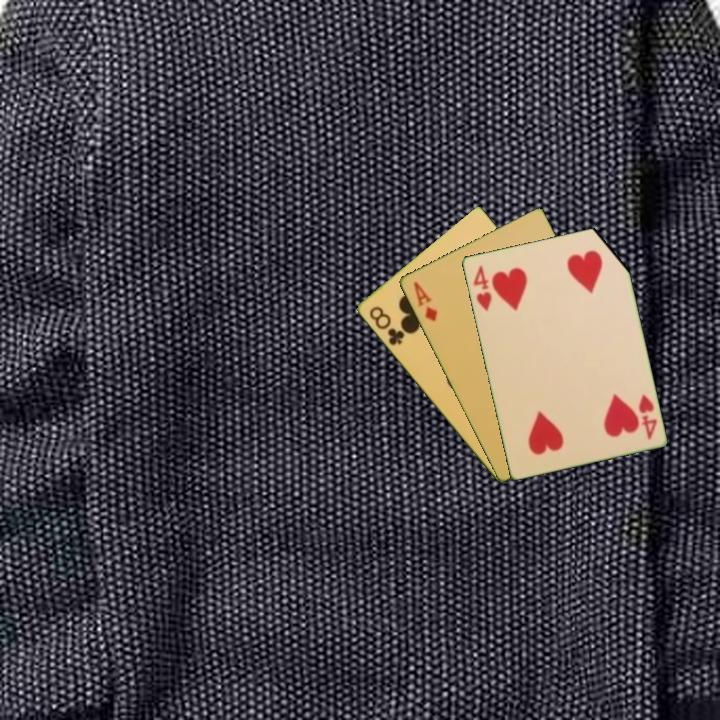4h: (469, 262, 494, 314), (635, 391, 660, 442)
8c: (365, 302, 407, 348)
Ad: (409, 278, 440, 324)
